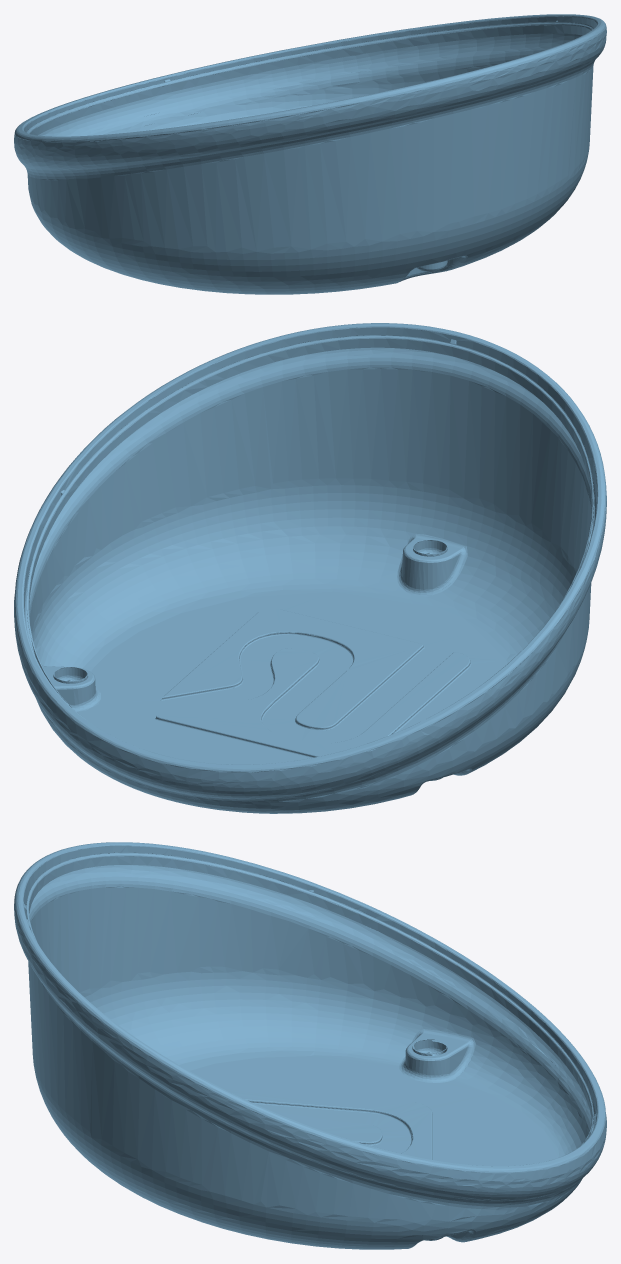
Rendered from URBlue.obj.
The picture shows the model from 3 angles, top to bottom: view 1: azimuth 30°, elevation 25°; view 2: azimuth 150°, elevation 25°; view 3: azimuth 270°, elevation 25°; orthographic projection.
Size of the model in its own units: 0.094 by 0.0471 by 0.094.
